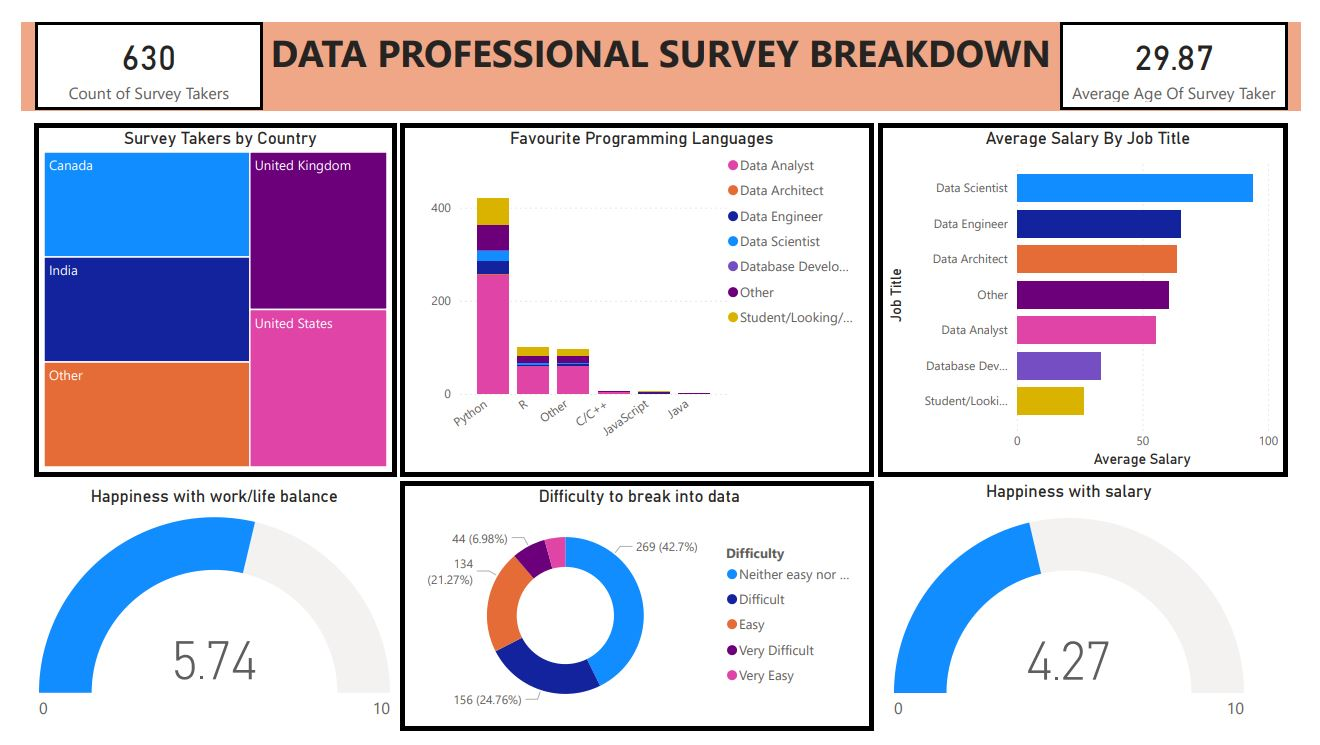

What the dashboard file says about the page in this screenshot:
{"tool":"powerbi","page":{"name":"Page 1","canvas":[1280,720],"ordinal":0},"visuals":[{"type":"textbox","box":[0,0,1280.4,88.7],"z":0},{"type":"card","fields":{"Values":["Count(Data Professional Survey.Unique ID)"]},"box":[14.5,0,227.6,88.2],"z":1000},{"type":"card","fields":{"Values":["Avg(Data Professional Survey.Q10 - Current Age)"]},"box":[1039.5,0,227.6,88.2],"z":2000},{"type":"barChart","title":"Average Salary By Job Title","fields":{"Category":["Data Professional Survey.Q1 - Which Title Best Fits your Current Role?.1"],"Y":["Avg(Data Professional Survey.Average Salary)"],"Series":["Data Professional Survey.Q1 - Which Title Best Fits your Current Role?.1"]},"box":[856.6,101.3,410.5,353.9],"z":3000},{"type":"columnChart","title":"Favourite Programming Languages","fields":{"Category":["Data Professional Survey.Q5 - Favorite Programming Language.1"],"Y":["CountNonNull(Data Professional Survey.Unique ID)"],"Series":["Data Professional Survey.Q1 - Which Title Best Fits your Current Role?.1"]},"box":[378.9,101.3,473.7,353.9],"z":4000},{"type":"treemap","title":"Survey Takers by Country","fields":{"Group":["Data Professional Survey.Q11 - Which Country do you live in?.1"],"Values":["Count(Data Professional Survey.Q11 - Which Country do you live in?.1)"]},"box":[13.4,101.1,362.4,354],"z":5000},{"type":"gauge","title":"Happiness with work/life balance","fields":{"Y":["Avg(Data Professional Survey.Q6 - How Happy are you in your Current Position with the following? (Work/Life Balance))"],"MinValue":["Min(Data Professional Survey.Q6 - How Happy are you in your Current Position with the following? (Work/Life Balance))"],"MaxValue":["Max(Data Professional Survey.Q6 - How Happy are you in your Current Position with the following? (Work/Life Balance))1"]},"box":[13.2,464.5,360.5,250],"z":6000},{"type":"gauge","title":"Happiness with salary","fields":{"Y":["Avg(Data Professional Survey.Q6 - How Happy are you in your Current Position with the following? (Salary))"],"MinValue":["Min(Data Professional Survey.Q6 - How Happy are you in your Current Position with the following? (Salary))"],"MaxValue":["Max(Data Professional Survey.Q6 - How Happy are you in your Current Position with the following? (Salary))1"]},"box":[868.4,459.2,359.2,260.5],"z":7000},{"type":"donutChart","title":"Difficulty to break into data","fields":{"Y":["CountNonNull(Data Professional Survey.Q7 - How difficult was it for you to break into Data?)"],"Category":["Data Professional Survey.Q7 - How difficult was it for you to break into Data?"]},"box":[378.9,459.2,473.7,250],"z":8000}]}

Visuals, with their boxes in screenshot pixels (x1, y1, x2, y2), scaled from the page's 1280x720 canvas onto the 1320x745 screenshot:
textbox: x1=0, y1=0, x2=1319, y2=92
card - Count(Data Professional Survey.Unique ID): x1=15, y1=0, x2=250, y2=91
card - Avg(Data Professional Survey.Q10 - Current Age): x1=1072, y1=0, x2=1307, y2=91
"Average Salary By Job Title" barChart: x1=883, y1=105, x2=1307, y2=471
"Favourite Programming Languages" columnChart: x1=391, y1=105, x2=879, y2=471
"Survey Takers by Country" treemap: x1=14, y1=105, x2=388, y2=471
"Happiness with work/life balance" gauge: x1=14, y1=481, x2=385, y2=739
"Happiness with salary" gauge: x1=896, y1=475, x2=1266, y2=744
"Difficulty to break into data" donutChart: x1=391, y1=475, x2=879, y2=734
